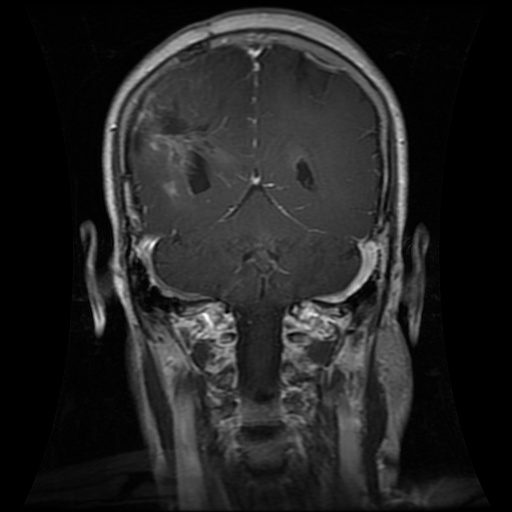glioma: (132, 72, 231, 195)
